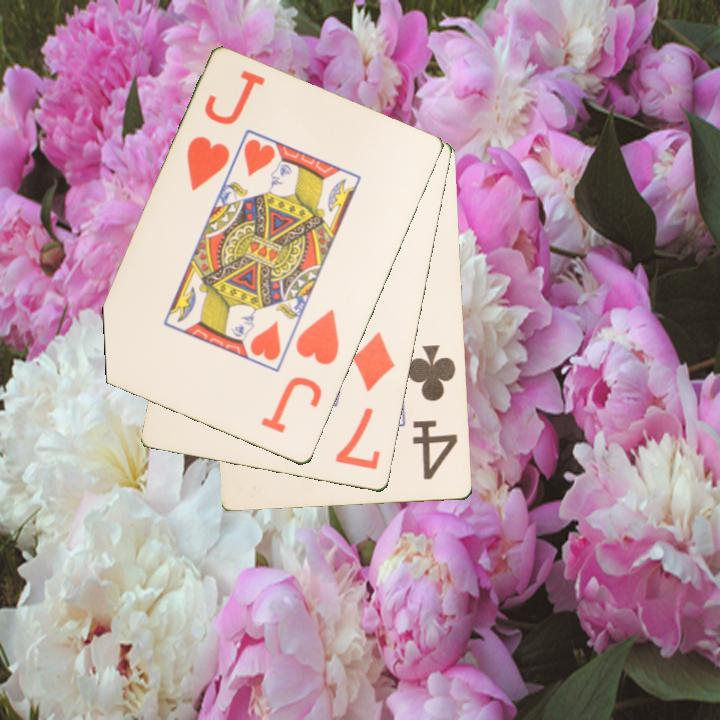4c: (404, 342, 461, 484)
7d: (332, 329, 399, 474)
Jh: (258, 306, 343, 437), (183, 133, 233, 195)
